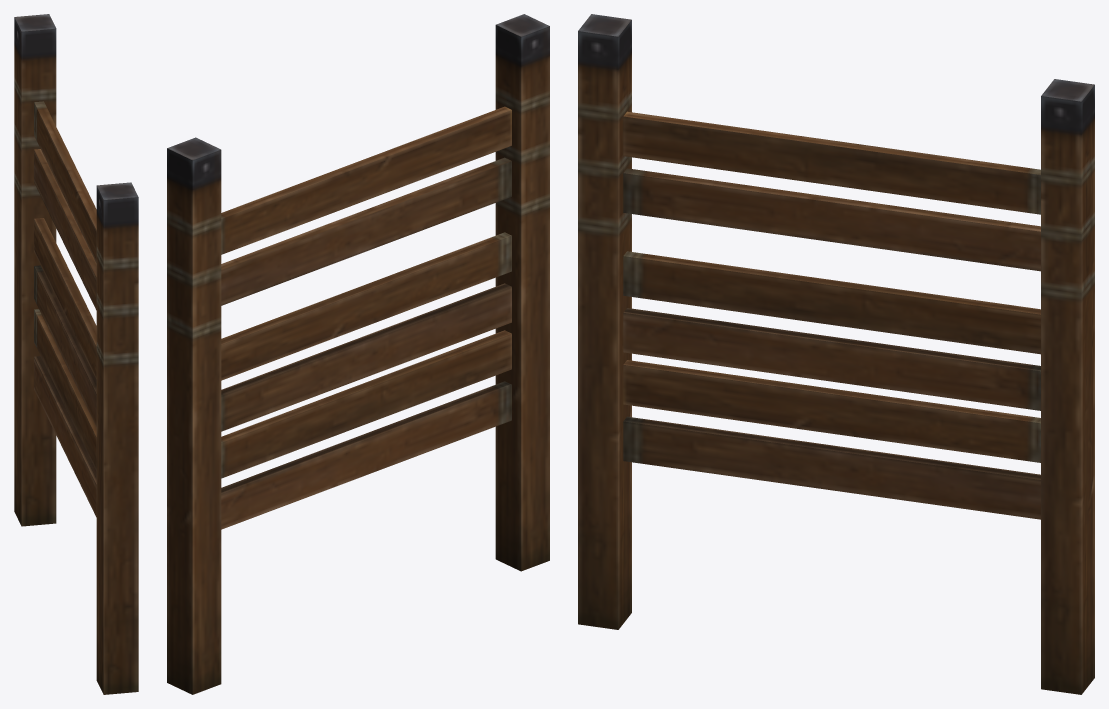
File: Barrier1.fbx
3 renders of one model, left to right at view 1: azimuth 30°, elevation 25°; view 2: azimuth 150°, elevation 25°; view 3: azimuth 270°, elevation 25°, orthographic. The views are drawn at different scales.
Parts seen in each view (by area): view 1: Barrier1; view 2: Barrier1; view 3: Barrier1.
Boxes of the visible parts, x1,y1,x2,y2 form: Barrier1: (14, 14, 138, 694); Barrier1: (167, 14, 549, 694); Barrier1: (578, 14, 1094, 694).
Bounding box in the file's own units: 145 × 458 × 362.
1 material, 1 textured.
